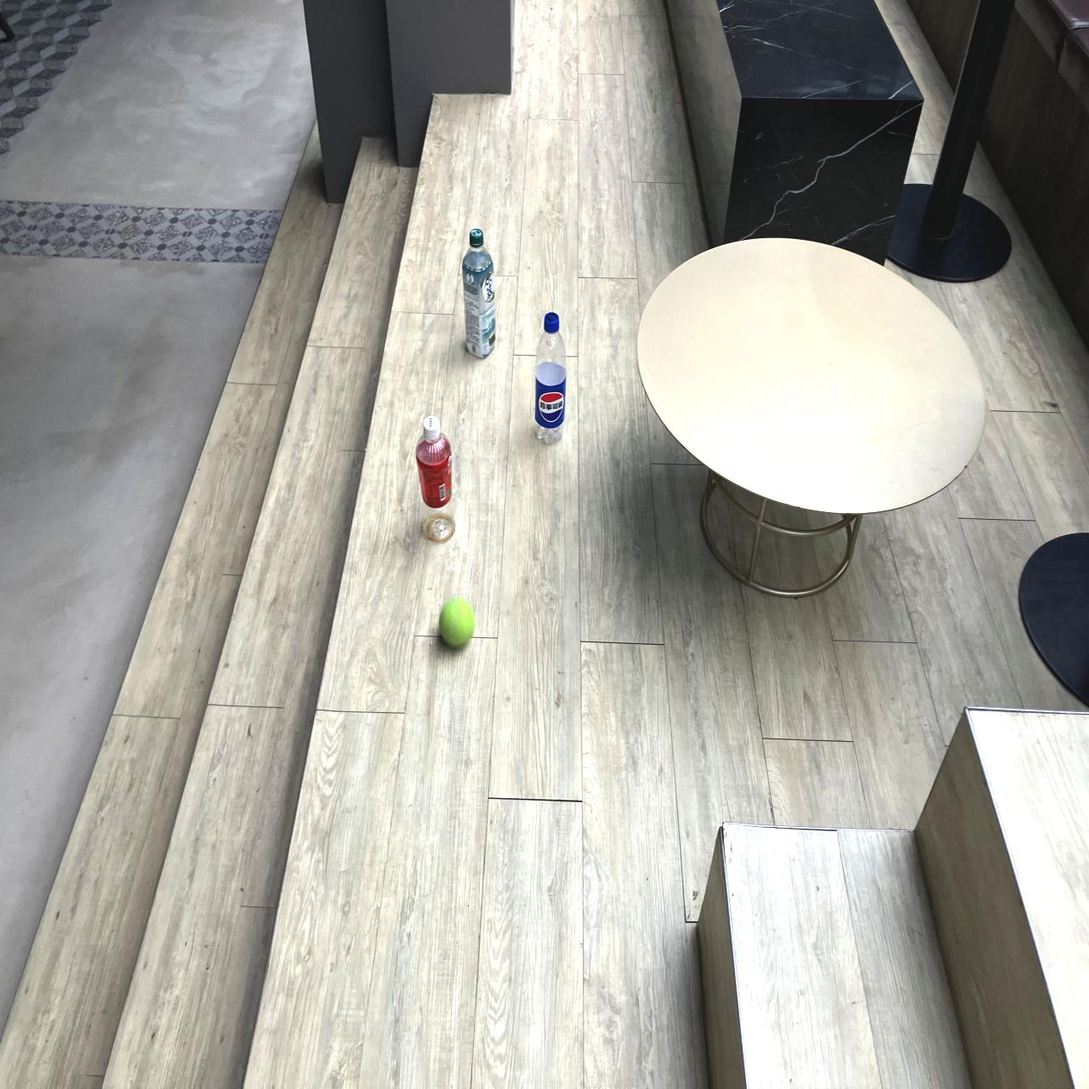plastic-bottle: (419, 416, 456, 542), (462, 230, 496, 357), (535, 312, 566, 443)
tennisball: (440, 597, 475, 648)
